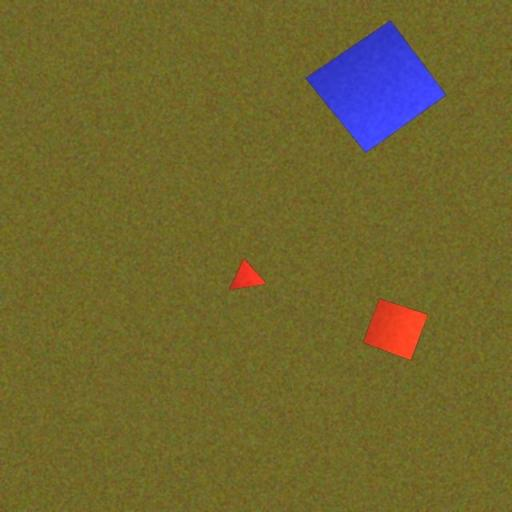BLUE_SQUARE: (304, 19, 447, 154)
RED_SQUARE: (362, 298, 429, 360)
